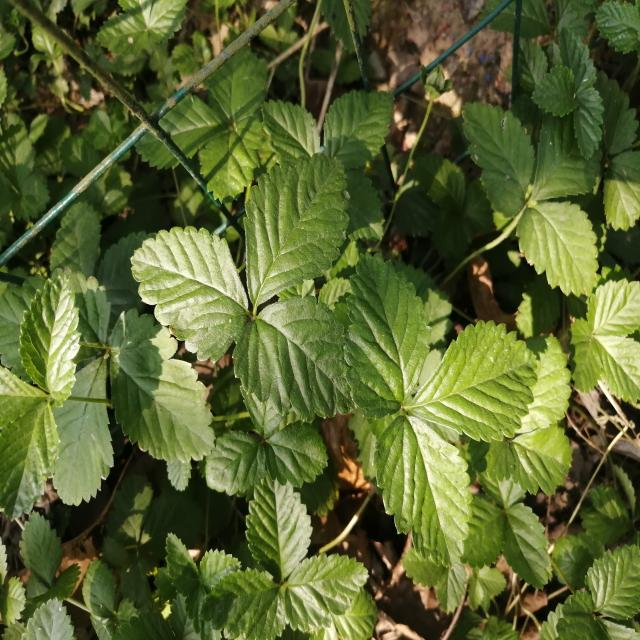Mock_strawberry: (144, 163, 374, 470), (344, 264, 560, 557)
